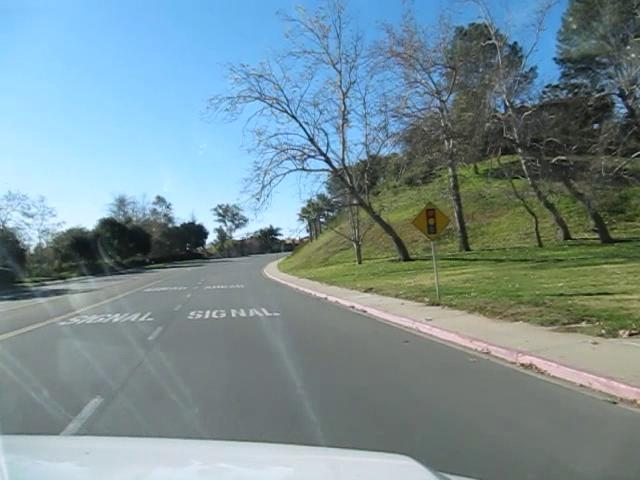signalAhead: (410, 200, 451, 242)
